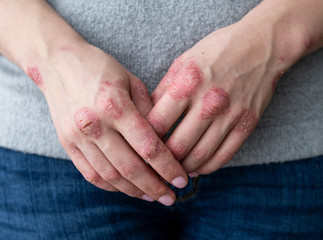Diseased: (66, 63, 257, 172)
